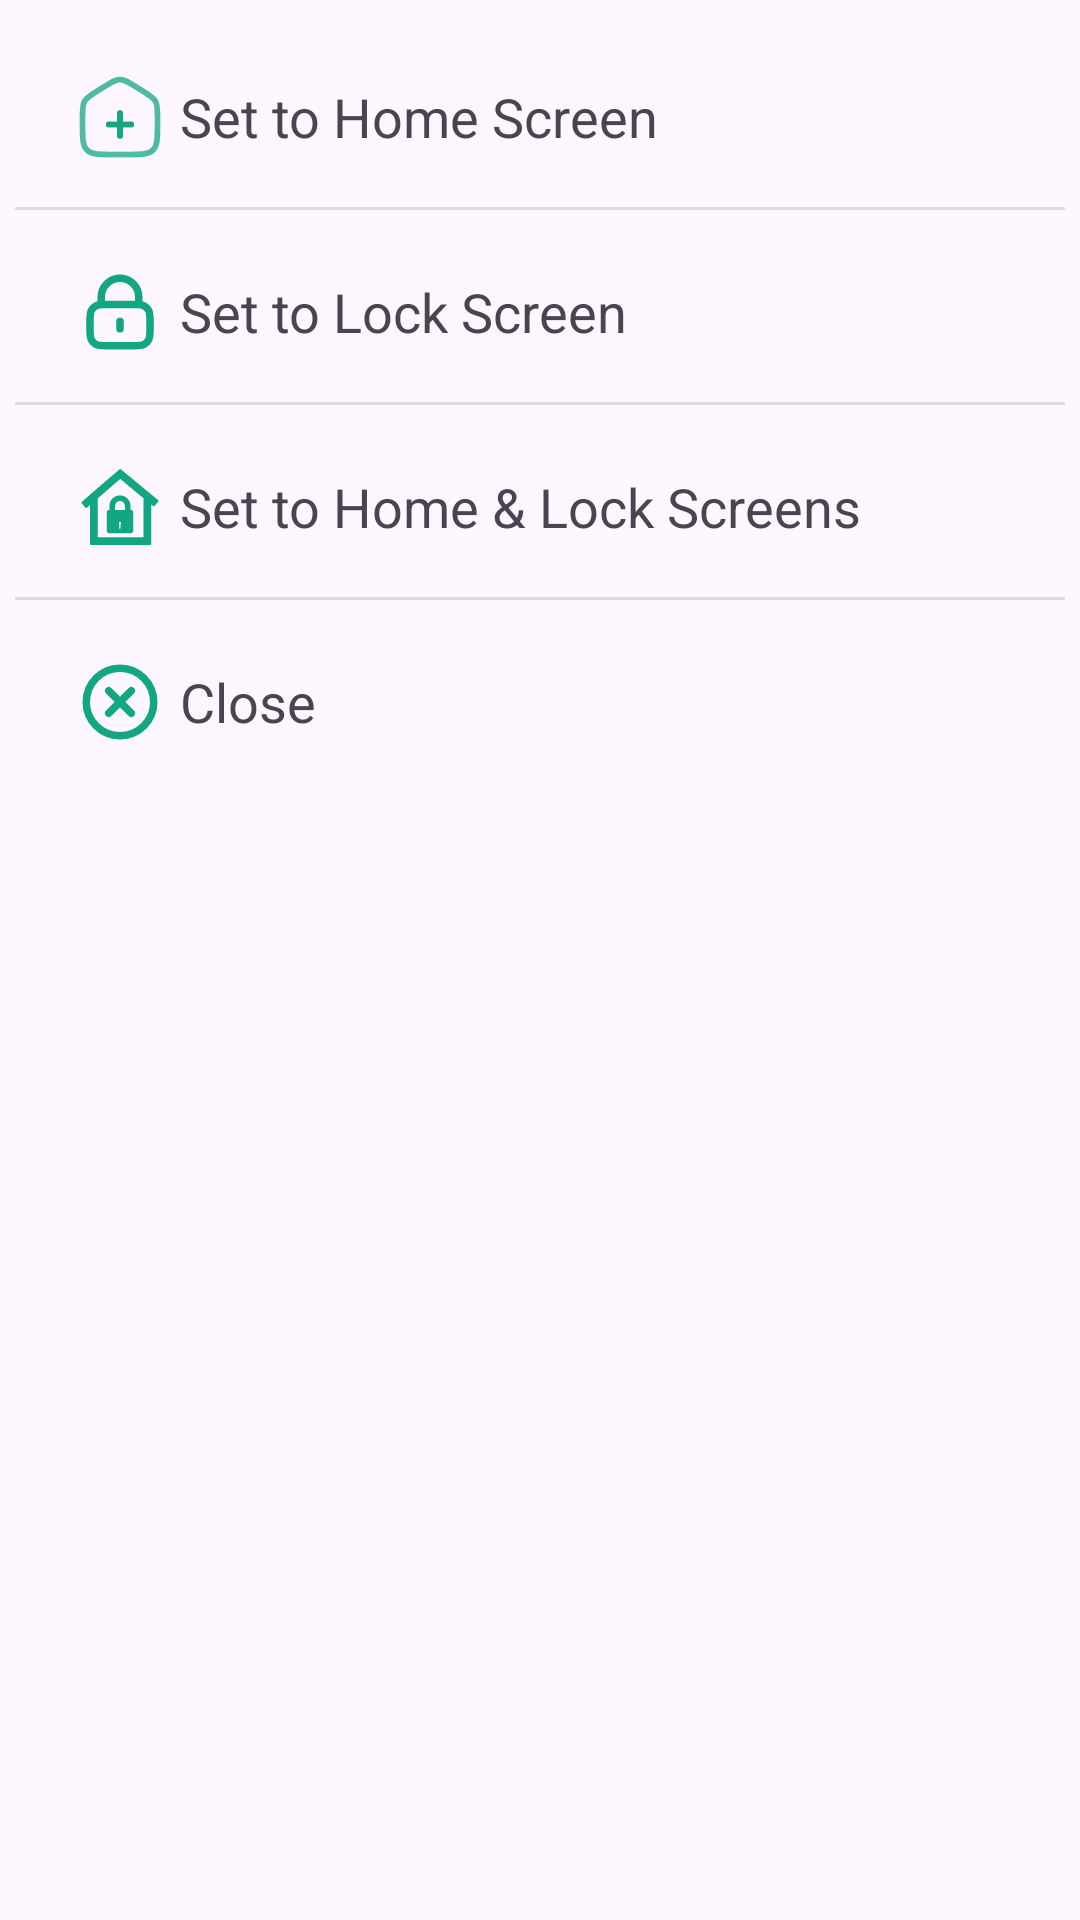

Named icons in this screenshot (1080w x 1920h) and their bounding boxes, {"left": x1, "top": y1, "right": x2, "bottom": y2}:
home add: {"left": 79, "top": 76, "right": 161, "bottom": 158}
